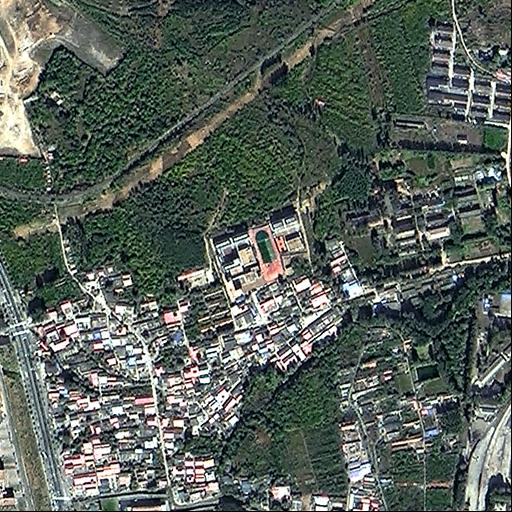school: (210, 212, 312, 304)
